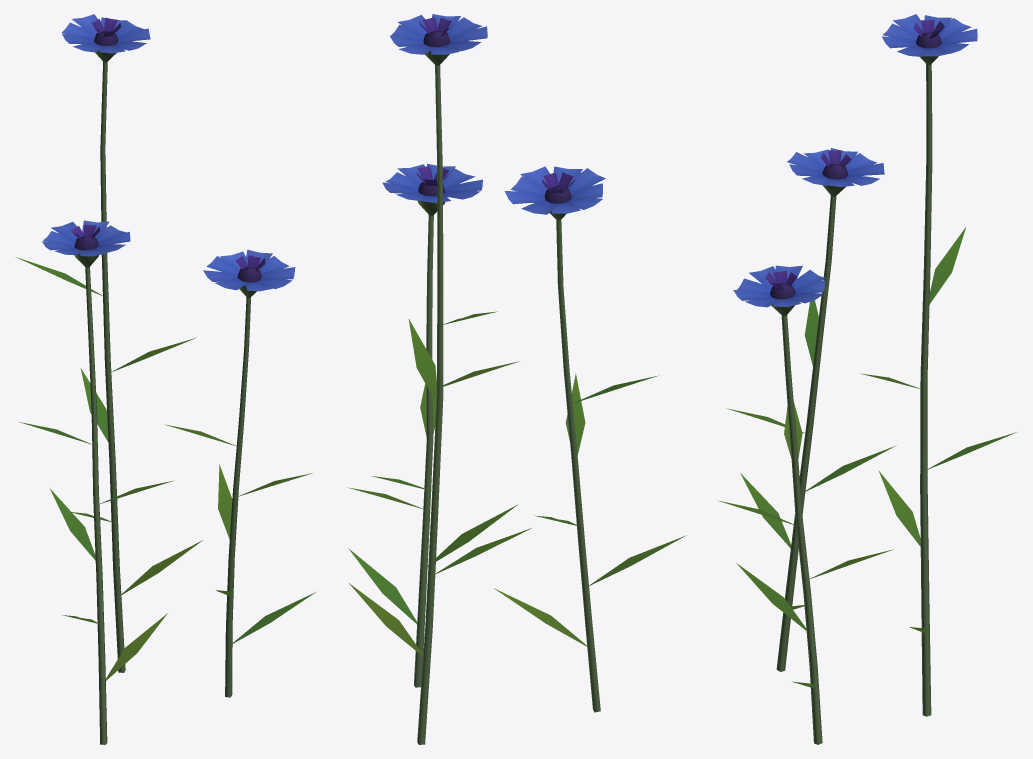
The model's file is flower-cornflower-b.lod0.glb.
3 views of the same model, side by side, from view 1: azimuth 30°, elevation 25°; view 2: azimuth 150°, elevation 25°; view 3: azimuth 270°, elevation 25° (orthographic). The views are drawn at different scales.
Parts seen in each view (by area): view 1: flower-cornflower-b.lod0; view 2: flower-cornflower-b.lod0; view 3: flower-cornflower-b.lod0.
Boxes of the visible parts, bbox=[...] form: flower-cornflower-b.lod0: bbox=[16, 14, 315, 744]; flower-cornflower-b.lod0: bbox=[347, 14, 686, 744]; flower-cornflower-b.lod0: bbox=[718, 14, 1016, 744].
Size of the model in its own units: 0.2269 by 0.4859 by 0.1953.
